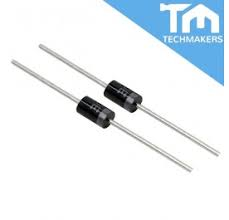diode: (60, 81, 121, 135), (102, 72, 156, 119)
